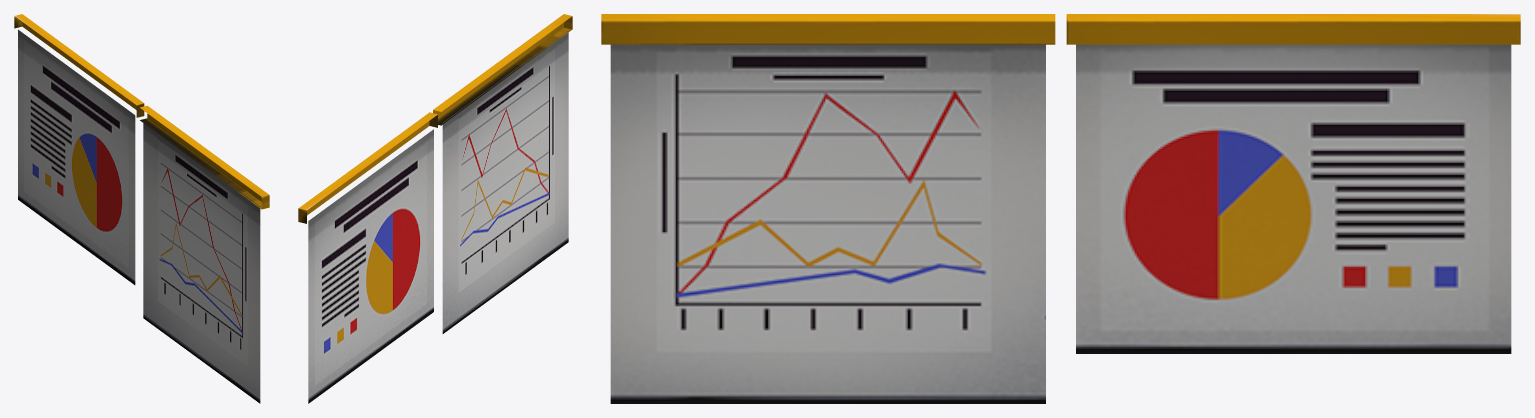
Rendered from Tx_prop_projectorscreen_Commerce.fbx.
3 renders of one model, left to right at view 1: azimuth 30°, elevation 25°; view 2: azimuth 150°, elevation 25°; view 3: azimuth 270°, elevation 25°, orthographic. The views are drawn at different scales.
Parts seen in each view (by area): view 1: Tx_prop_projector_screen_Commerce; view 2: Tx_prop_projector_screen_Commerce; view 3: Tx_prop_projector_screen_Commerce.
Boxes of the visible parts, left/top/right/bottom form: Tx_prop_projector_screen_Commerce: left=14, top=14, right=269, bottom=403; Tx_prop_projector_screen_Commerce: left=298, top=14, right=572, bottom=403; Tx_prop_projector_screen_Commerce: left=601, top=14, right=1520, bottom=403.
Bounding box in the file's own units: 0.6214 × 15.63 × 33.48.
